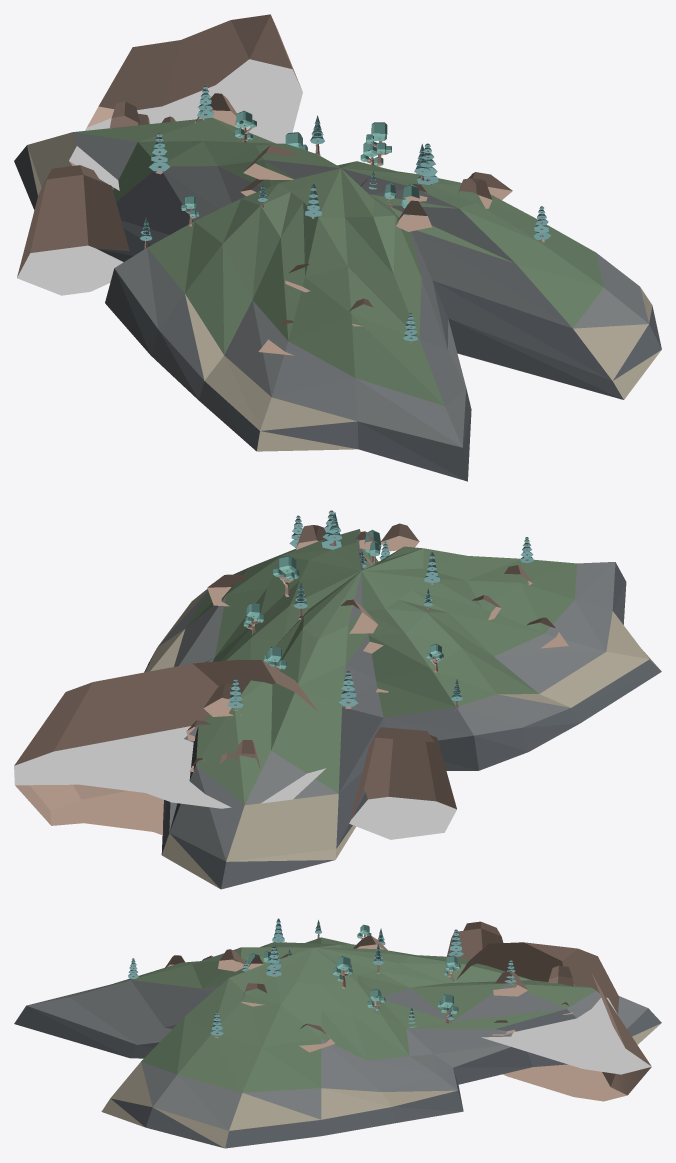
File: chain_town_lod0.glb
The picture shows the model from 3 angles, top to bottom: view 1: azimuth 30°, elevation 25°; view 2: azimuth 150°, elevation 25°; view 3: azimuth 270°, elevation 25°; orthographic projection. The views are drawn at different scales.
Size of the model in its own units: 1.84 by 0.7381 by 3.09.
